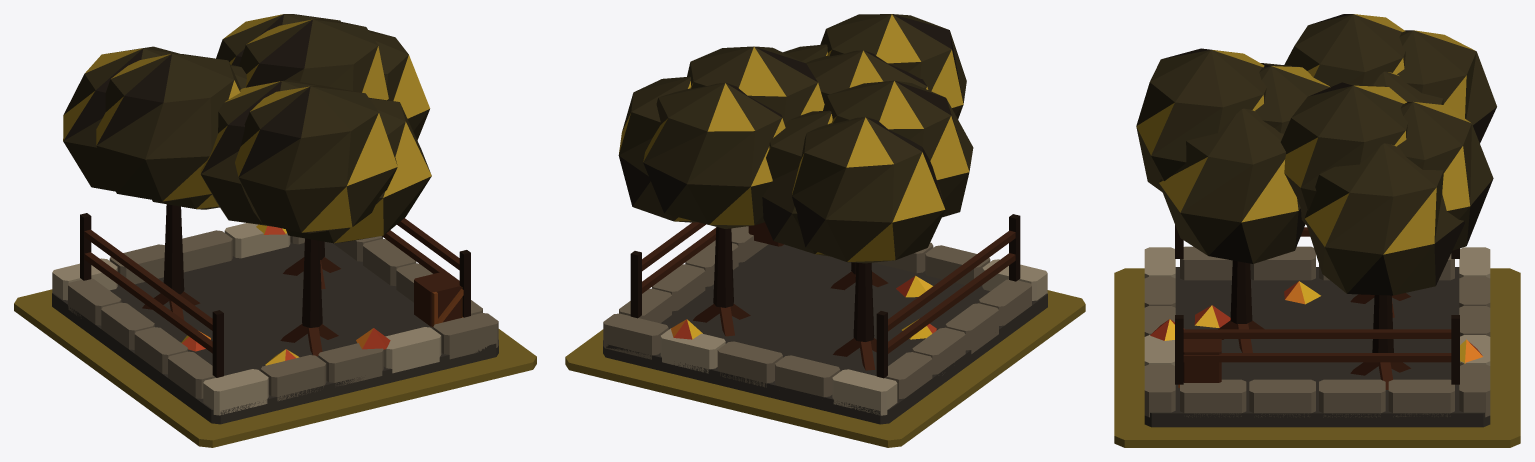
File: grove_t5.glb
The picture shows the model from 3 angles, left to right: view 1: azimuth 30°, elevation 25°; view 2: azimuth 150°, elevation 25°; view 3: azimuth 270°, elevation 25°; orthographic projection. The views are drawn at different scales.
Visible parts, largest first — view 1: MMR | grove | T05 Architecture.001, MMR | grove | Tier 05 Ground.001, MMR | grove | T05 Autumn Dressing.001; view 2: MMR | grove | T05 Architecture.001, MMR | grove | Tier 05 Ground.001, MMR | grove | T05 Autumn Dressing.001; view 3: MMR | grove | T05 Architecture.001, MMR | grove | Tier 05 Ground.001, MMR | grove | T05 Autumn Dressing.001.
Part boxes in pixels (x1,y1,x2,y2): MMR | grove | T05 Architecture.001: (52, 14, 498, 424); MMR | grove | Tier 05 Ground.001: (14, 289, 536, 447); MMR | grove | T05 Autumn Dressing.001: (181, 224, 390, 365); MMR | grove | T05 Architecture.001: (603, 14, 1047, 424); MMR | grove | Tier 05 Ground.001: (565, 290, 1085, 447); MMR | grove | T05 Autumn Dressing.001: (671, 275, 936, 339); MMR | grove | T05 Architecture.001: (1136, 14, 1496, 427); MMR | grove | Tier 05 Ground.001: (1114, 268, 1520, 447); MMR | grove | T05 Autumn Dressing.001: (1150, 281, 1482, 363).
Size of the model in its own units: 2.38 by 1.94 by 2.35.
1 material, 1 textured.
